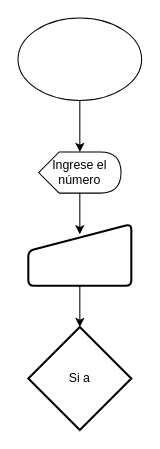
The diagram is 160 pixels wide and 449 high, and some of its shapes have lost their labels. The box of each missing label's shape, as (x1, y1, x2, y2) in pixels:
Inicio: (17, 17, 142, 100)
Leer (a): (27, 222, 132, 286)
